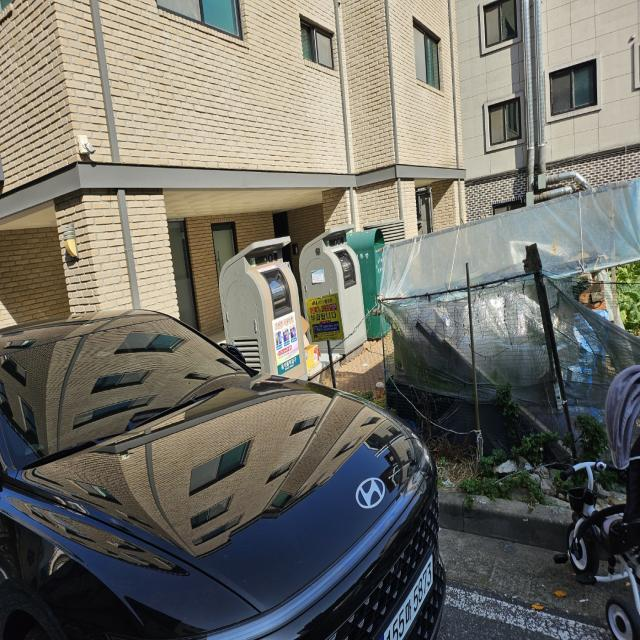CleanNet: (215, 228, 309, 384), (300, 214, 370, 376)
